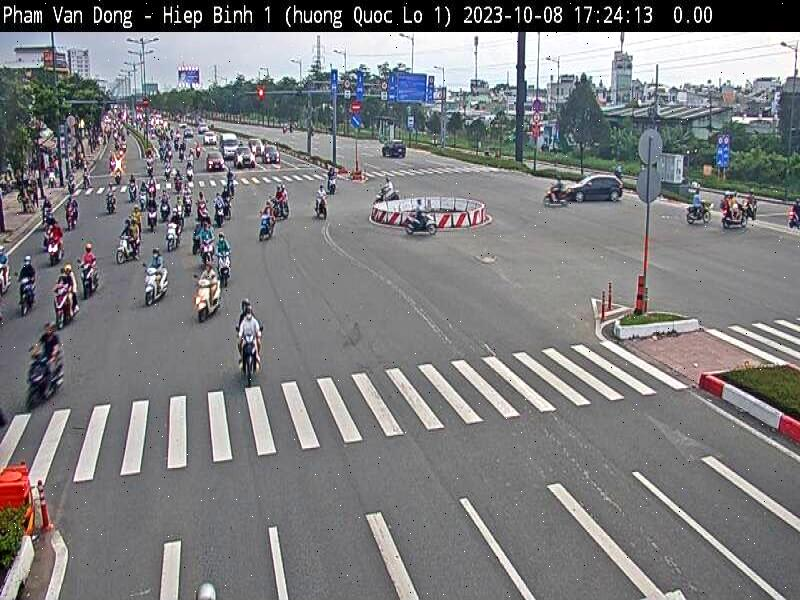car: (562, 175, 625, 203), (378, 130, 409, 168), (232, 138, 255, 175), (204, 144, 226, 179), (261, 139, 281, 173)
motorcycle: (15, 348, 66, 414), (224, 324, 268, 389), (186, 272, 230, 326), (130, 260, 174, 308), (43, 280, 82, 326), (686, 202, 708, 224)
